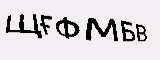Д: (37, 20, 53, 49)
К: (111, 10, 123, 34)
Н: (54, 17, 67, 42)
У: (95, 8, 112, 40)
Ю: (69, 6, 96, 41)
